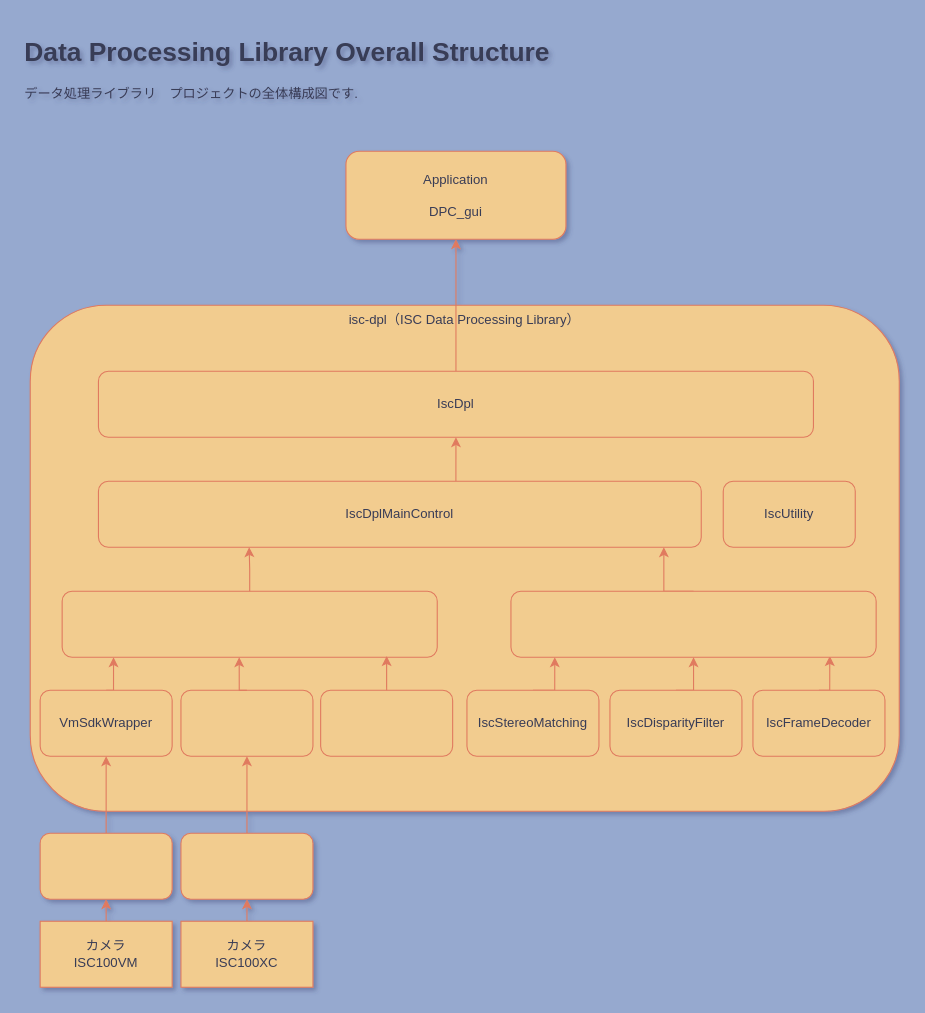
Some shapes in this 925 by 1013 pixel diagram are drawn without their labels. Each missing label, with the box of its shape:
ISC SDK（VM）: (39, 832, 172, 899)
ISC SDK（XC）: (180, 832, 313, 899)
IscCameraControl: (61, 590, 437, 657)
IscDataProcessingControl: (510, 590, 876, 657)
IscSelfCalibration: (320, 689, 453, 756)
XcSdkWrapper: (180, 689, 313, 756)
